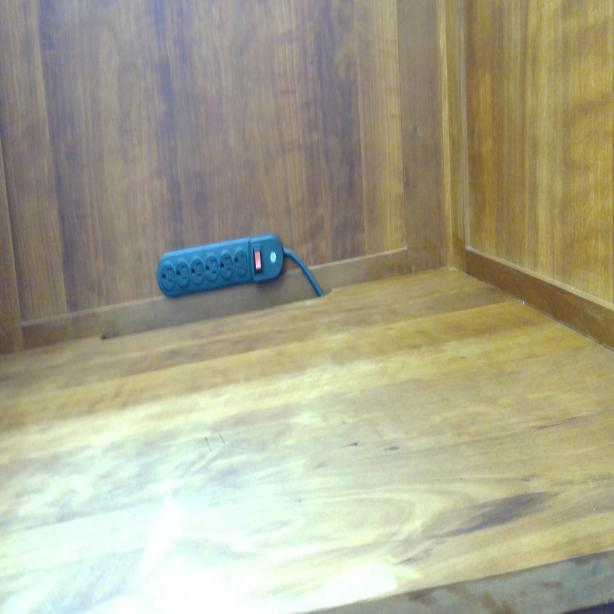typeb: (159, 261, 177, 288), (175, 258, 191, 288), (233, 249, 249, 276), (189, 258, 205, 284), (206, 254, 219, 281), (221, 253, 233, 277)
